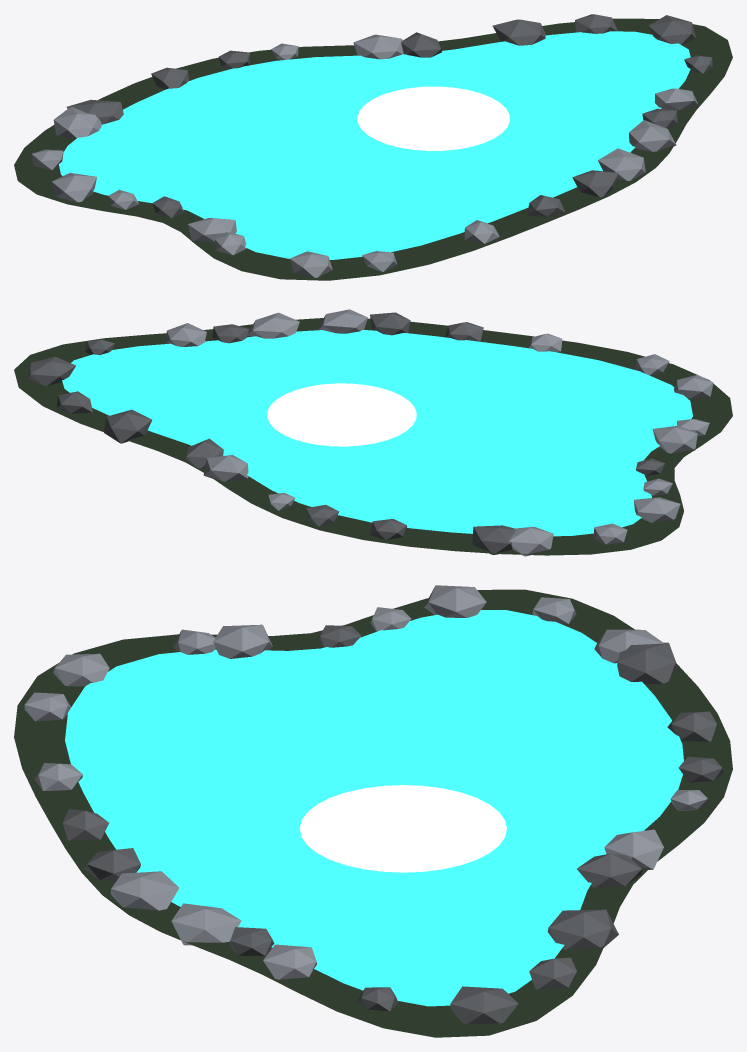
File: pond.glb
The picture shows the model from 3 angles, top to bottom: view 1: azimuth 30°, elevation 25°; view 2: azimuth 150°, elevation 25°; view 3: azimuth 270°, elevation 25°; orthographic projection. The views are drawn at different scales.
Parts seen in each view (by area): view 1: Pond, MoonReflection; view 2: Pond, MoonReflection; view 3: Pond, MoonReflection.
Part boxes in pixels (<box>): Pond: <box>14,14,732,280</box>; MoonReflection: <box>357,86,509,150</box>; Pond: <box>14,309,732,556</box>; MoonReflection: <box>267,383,416,446</box>; Pond: <box>14,585,732,1037</box>; MoonReflection: <box>299,785,506,872</box>.
Size of the model in its own units: 5.32 by 0.2195 by 3.61.
